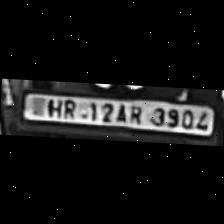0: (176, 105, 196, 127)
1: (82, 98, 100, 120)
2: (98, 99, 114, 122)
3: (144, 103, 164, 125)
4: (193, 104, 209, 130)
9: (163, 103, 179, 127)
A: (112, 100, 128, 122)
H: (42, 94, 61, 116)
R: (59, 94, 78, 116), (122, 102, 142, 122)
